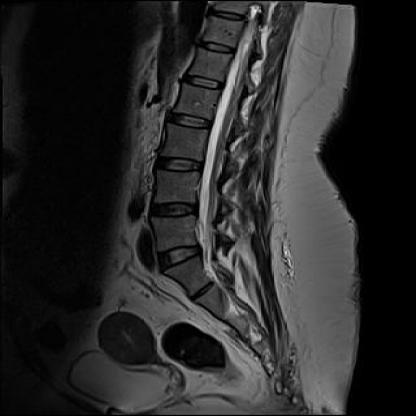Degenerative Disc Diseaserotation: (153, 244, 208, 272), (147, 196, 201, 220)
Disc Relaxationrotation: (153, 243, 208, 273)
